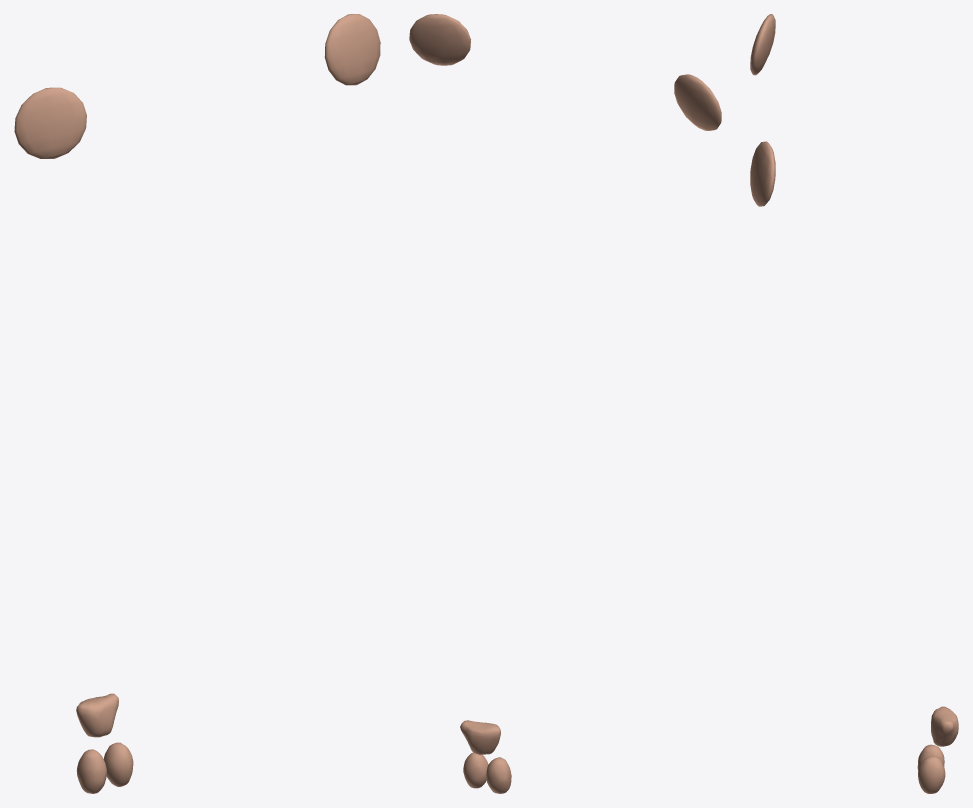
File: pediatric_child_5y_male.reproductive.LOD0.glb
3 views of the same model, side by side, from view 1: azimuth 30°, elevation 25°; view 2: azimuth 150°, elevation 25°; view 3: azimuth 270°, elevation 25° (orthographic). The views are drawn at different scales.
Parts seen in each view (by area): view 1: PEDIATRIC.CHILD_5Y.MALE.REPRODUCTIVE.BREAST_ADIPOSE_TISSUE.R, PEDIATRIC.CHILD_5Y.MALE.REPRODUCTIVE.BREAST_ADIPOSE_TISSUE.L, PEDIATRIC.CHILD_5Y.MALE.REPRODUCTIVE.PROSTATE, PEDIATRIC.CHILD_5Y.MALE.REPRODUCTIVE.TESTIS.R, PEDIATRIC.CHILD_5Y.MALE.REPRODUCTIVE.TESTIS.L; view 2: PEDIATRIC.CHILD_5Y.MALE.REPRODUCTIVE.BREAST_ADIPOSE_TISSUE.L, PEDIATRIC.CHILD_5Y.MALE.REPRODUCTIVE.BREAST_ADIPOSE_TISSUE.R, PEDIATRIC.CHILD_5Y.MALE.REPRODUCTIVE.PROSTATE, PEDIATRIC.CHILD_5Y.MALE.REPRODUCTIVE.TESTIS.R, PEDIATRIC.CHILD_5Y.MALE.REPRODUCTIVE.TESTIS.L; view 3: PEDIATRIC.CHILD_5Y.MALE.REPRODUCTIVE.BREAST_ADIPOSE_TISSUE.L, PEDIATRIC.CHILD_5Y.MALE.REPRODUCTIVE.BREAST_ADIPOSE_TISSUE.R, PEDIATRIC.CHILD_5Y.MALE.REPRODUCTIVE.PROSTATE, PEDIATRIC.CHILD_5Y.MALE.REPRODUCTIVE.TESTIS.L.
Boxes of the visible parts, box(x1,y1,x2,y2) form: PEDIATRIC.CHILD_5Y.MALE.REPRODUCTIVE.BREAST_ADIPOSE_TISSUE.R: box(14, 87, 86, 158); PEDIATRIC.CHILD_5Y.MALE.REPRODUCTIVE.BREAST_ADIPOSE_TISSUE.L: box(324, 14, 380, 85); PEDIATRIC.CHILD_5Y.MALE.REPRODUCTIVE.PROSTATE: box(76, 693, 118, 737); PEDIATRIC.CHILD_5Y.MALE.REPRODUCTIVE.TESTIS.R: box(76, 749, 106, 793); PEDIATRIC.CHILD_5Y.MALE.REPRODUCTIVE.TESTIS.L: box(103, 742, 133, 786); PEDIATRIC.CHILD_5Y.MALE.REPRODUCTIVE.BREAST_ADIPOSE_TISSUE.L: box(409, 14, 470, 65); PEDIATRIC.CHILD_5Y.MALE.REPRODUCTIVE.BREAST_ADIPOSE_TISSUE.R: box(674, 74, 721, 130); PEDIATRIC.CHILD_5Y.MALE.REPRODUCTIVE.PROSTATE: box(460, 720, 500, 754); PEDIATRIC.CHILD_5Y.MALE.REPRODUCTIVE.TESTIS.R: box(486, 757, 511, 793); PEDIATRIC.CHILD_5Y.MALE.REPRODUCTIVE.TESTIS.L: box(463, 752, 488, 788); PEDIATRIC.CHILD_5Y.MALE.REPRODUCTIVE.BREAST_ADIPOSE_TISSUE.L: box(750, 141, 775, 206); PEDIATRIC.CHILD_5Y.MALE.REPRODUCTIVE.BREAST_ADIPOSE_TISSUE.R: box(750, 14, 775, 75); PEDIATRIC.CHILD_5Y.MALE.REPRODUCTIVE.PROSTATE: box(931, 706, 958, 746); PEDIATRIC.CHILD_5Y.MALE.REPRODUCTIVE.TESTIS.L: box(918, 756, 945, 793).
Bounding box in the file's own units: 0.1449 × 0.3049 × 0.0815.
